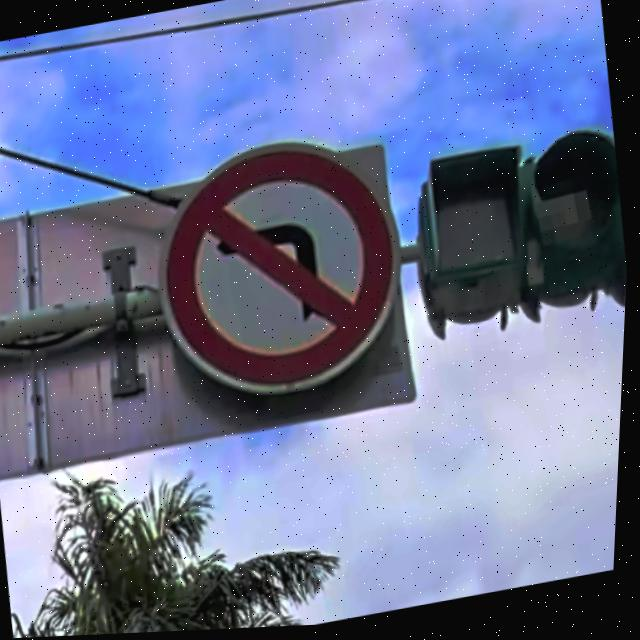noturnleft: (169, 156, 394, 387)
